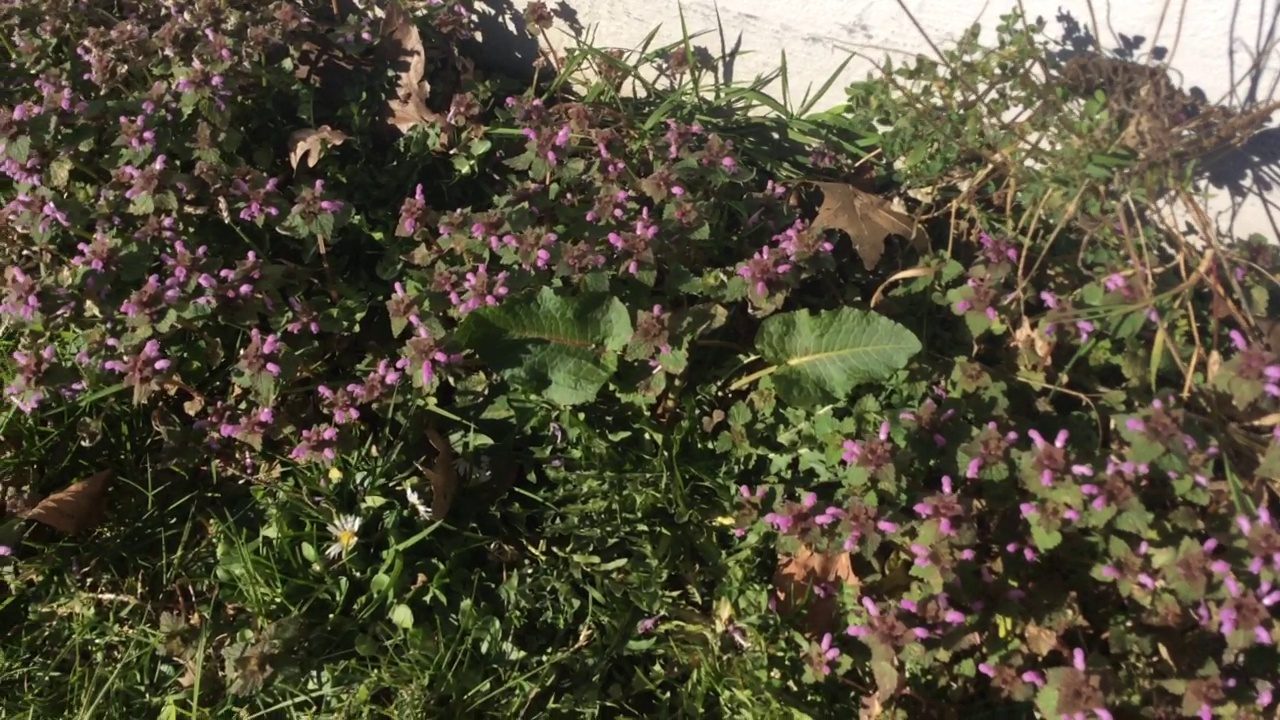rumex: (432, 289, 922, 411)
